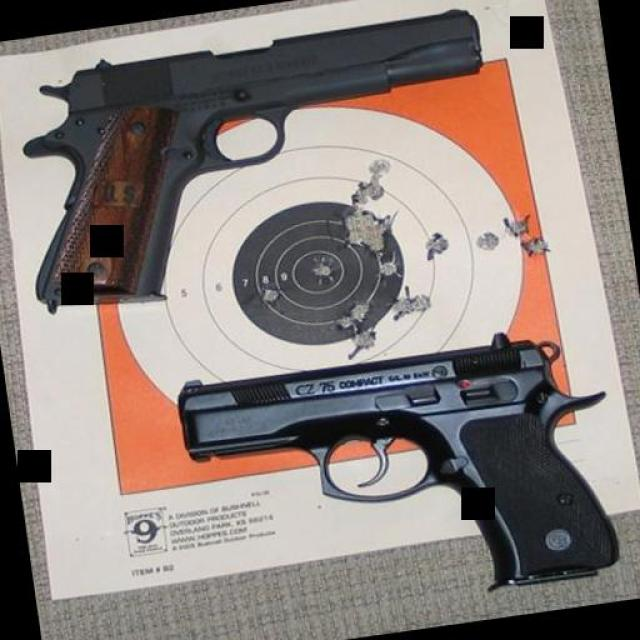gun: (1, 0, 511, 314), (175, 322, 626, 632)
